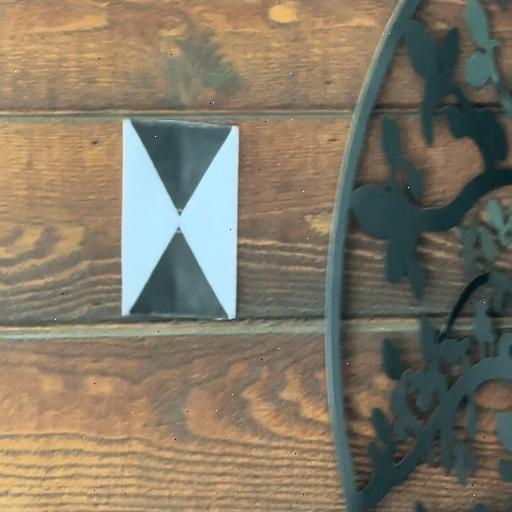target: (123, 121, 236, 321)
